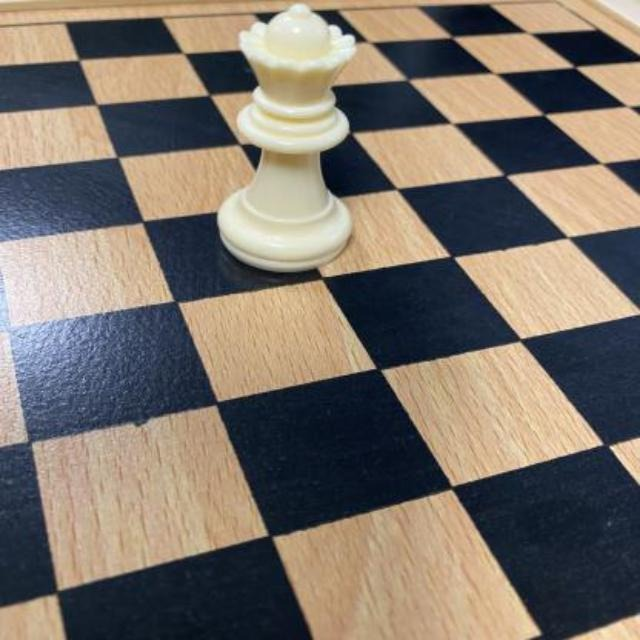white-queen: (214, 3, 362, 273)
